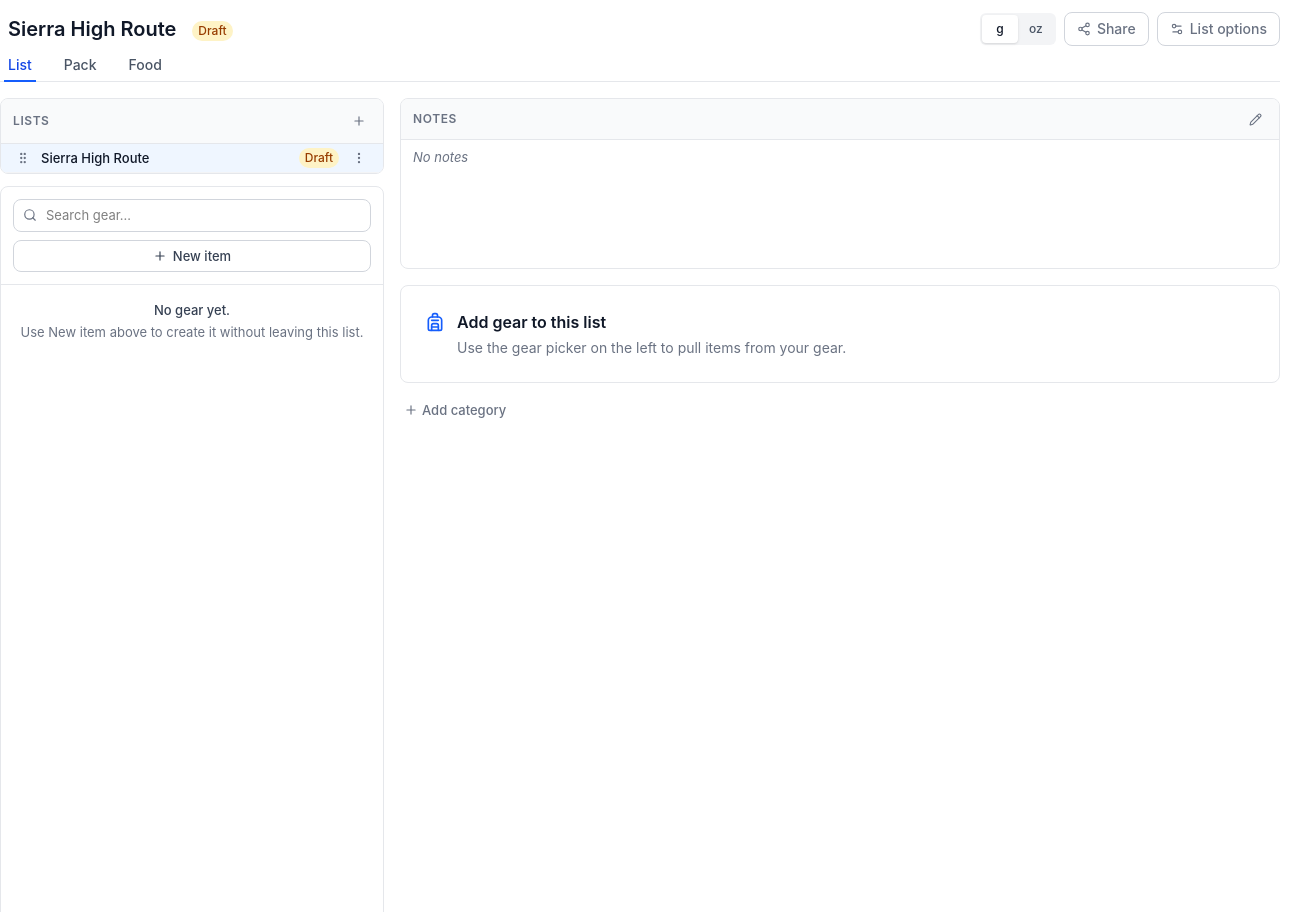
Scenario: in-list category creation › an empty list offers Add category and the new section opens ready to type
Expected: the heading "Add gear to this list" is shown, x1=457 y1=312 x2=606 y2=332
Click the button "Add category". click: (455, 410)
box: x1=400 y1=395 x2=510 y2=426
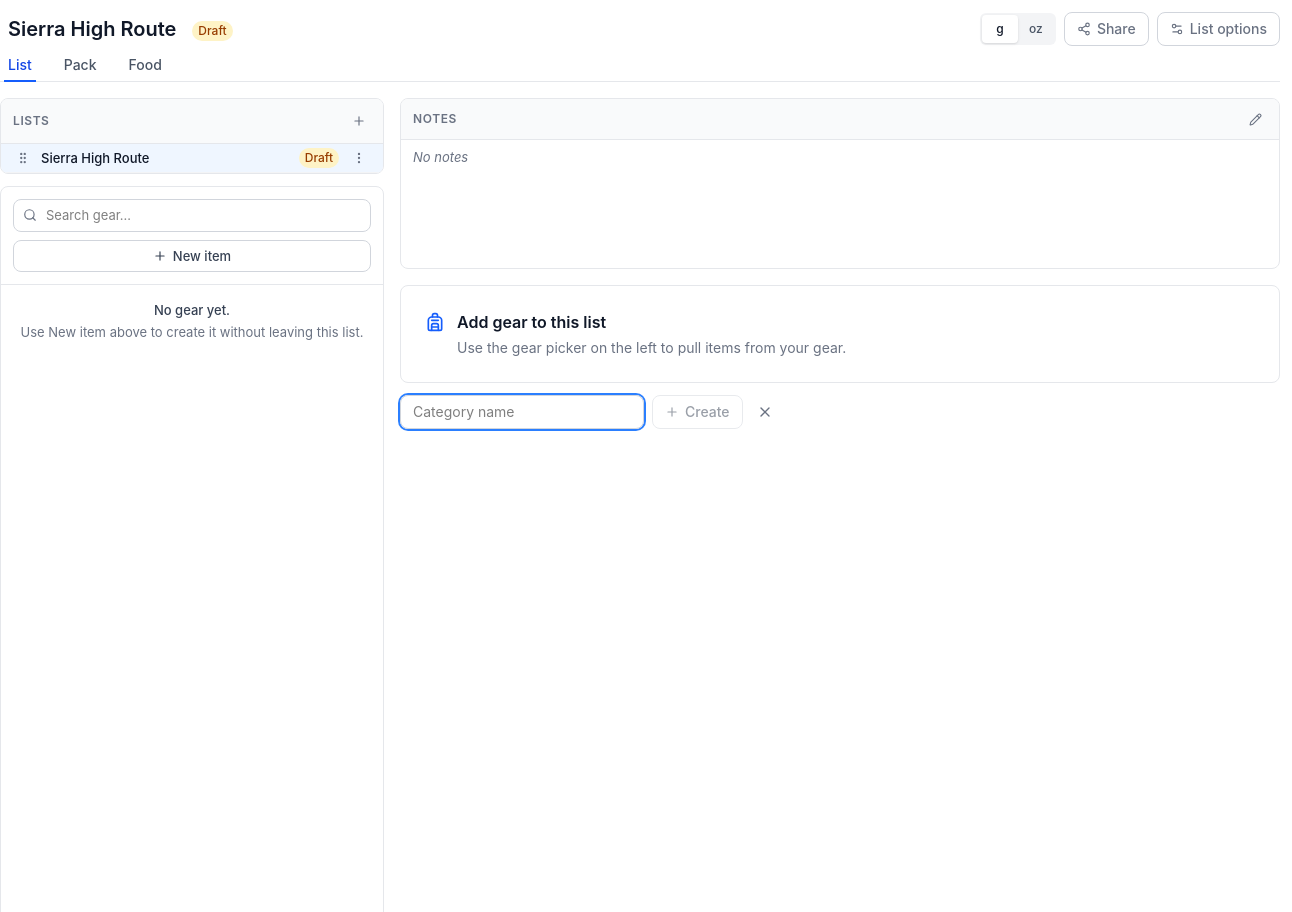
Type "Shelter" into the field labelled "Category name". click: (522, 412)
box: x1=400 y1=395 x2=644 y2=429
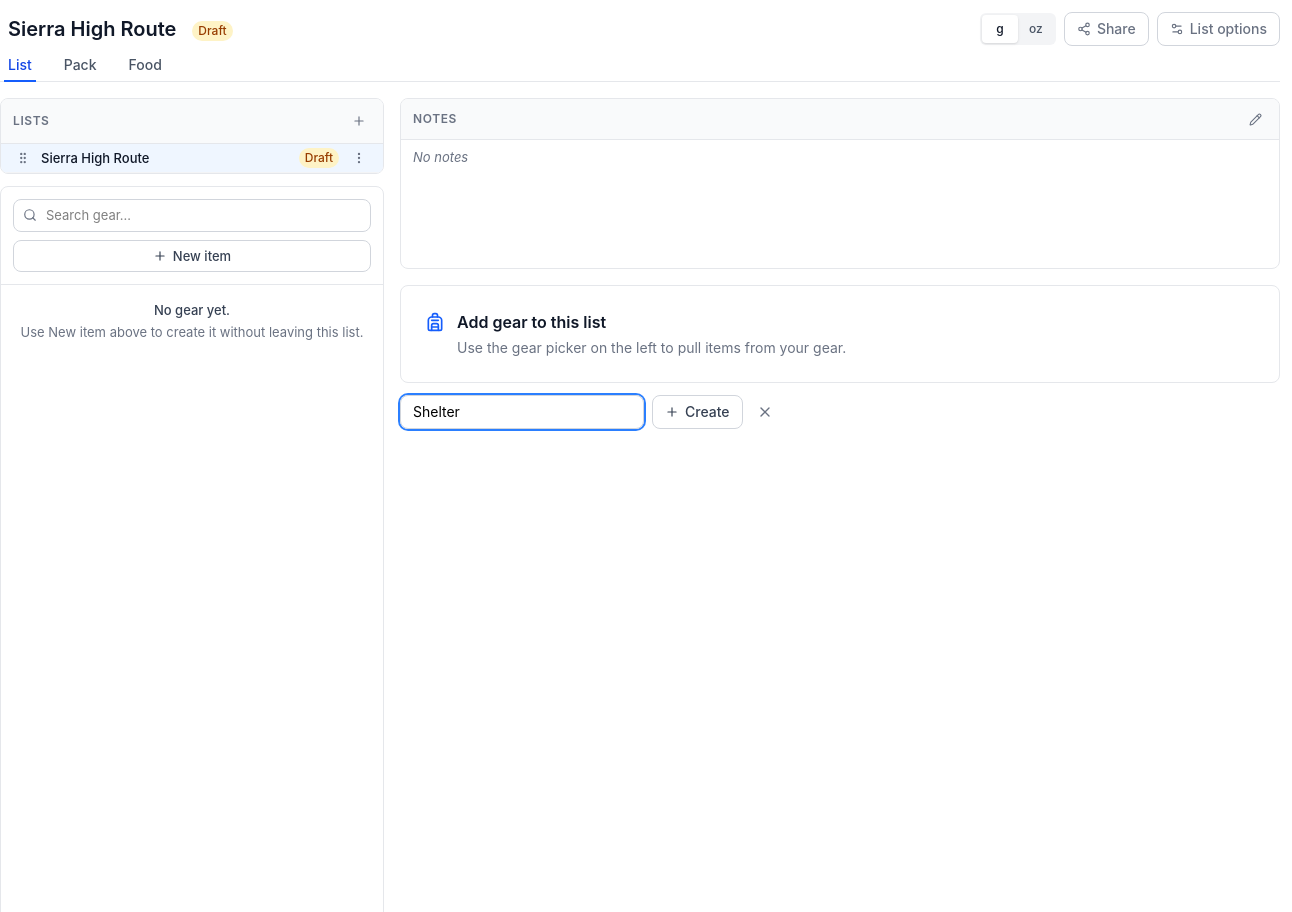
Press Enter in the field named "Category name", box x1=400 y1=395 x2=644 y2=429
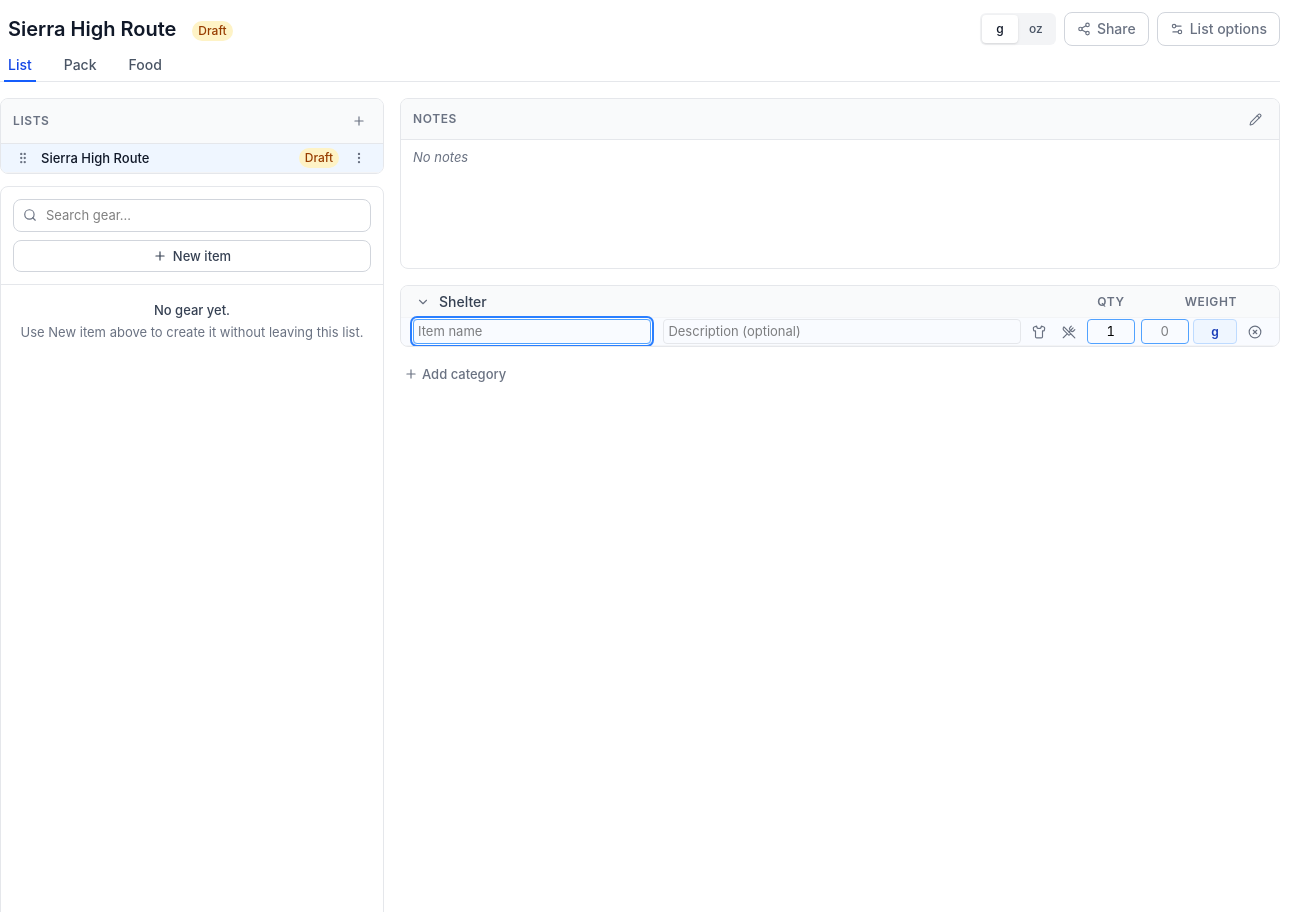
Result: the text "Shelter" is shown at x1=439 y1=292 x2=487 y2=312
Result: the field with placeholder "Item name" is shown at x1=413 y1=319 x2=651 y2=344
Result: the heading "Add gear to this list" is gone
